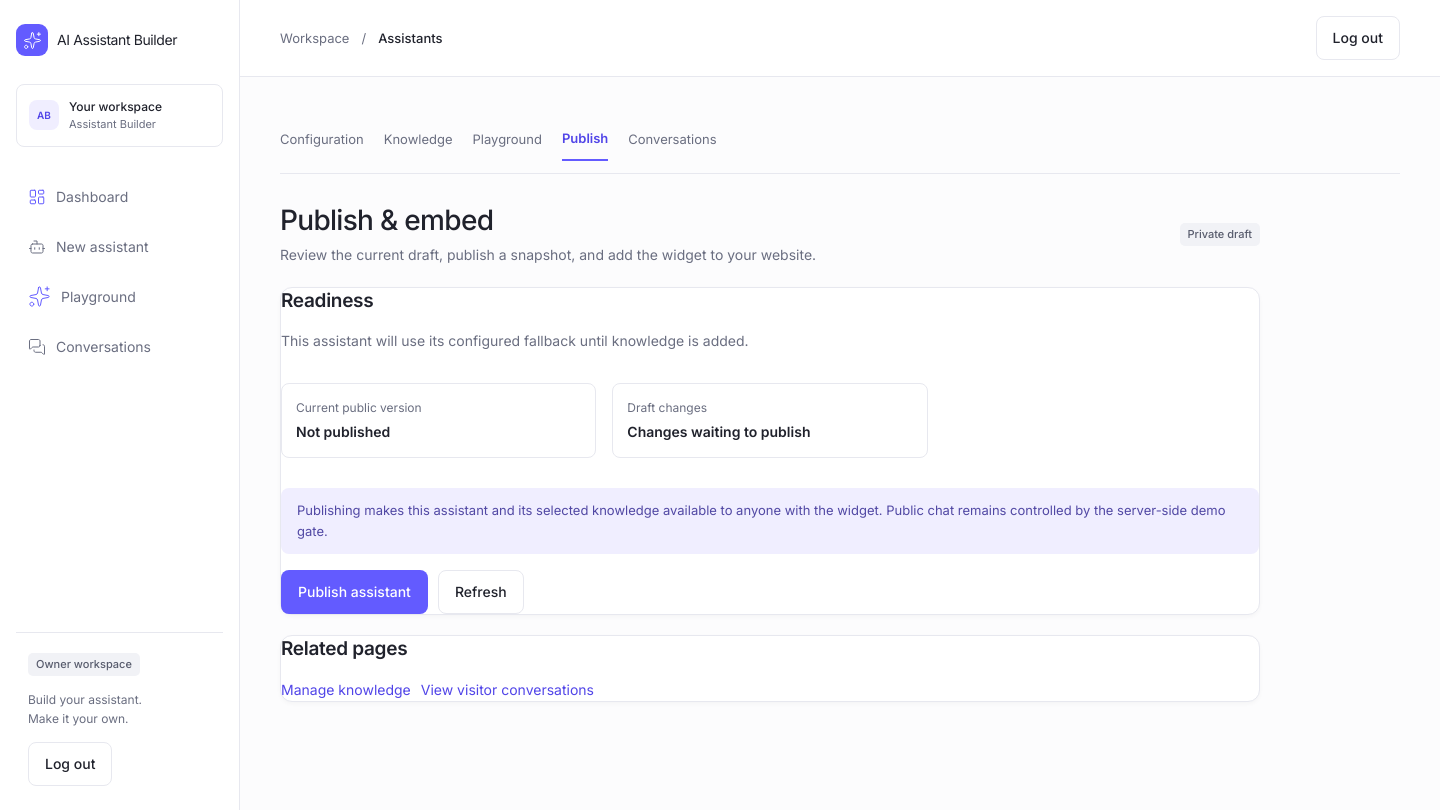
Test: P4-06 publishing UI › explains publish conflicts without exposing backend internals
What coordinates should you click on to do the following:
click the button "Publish assistant"
I would click on:
 (354, 592)
Its box is [281,570,428,614].
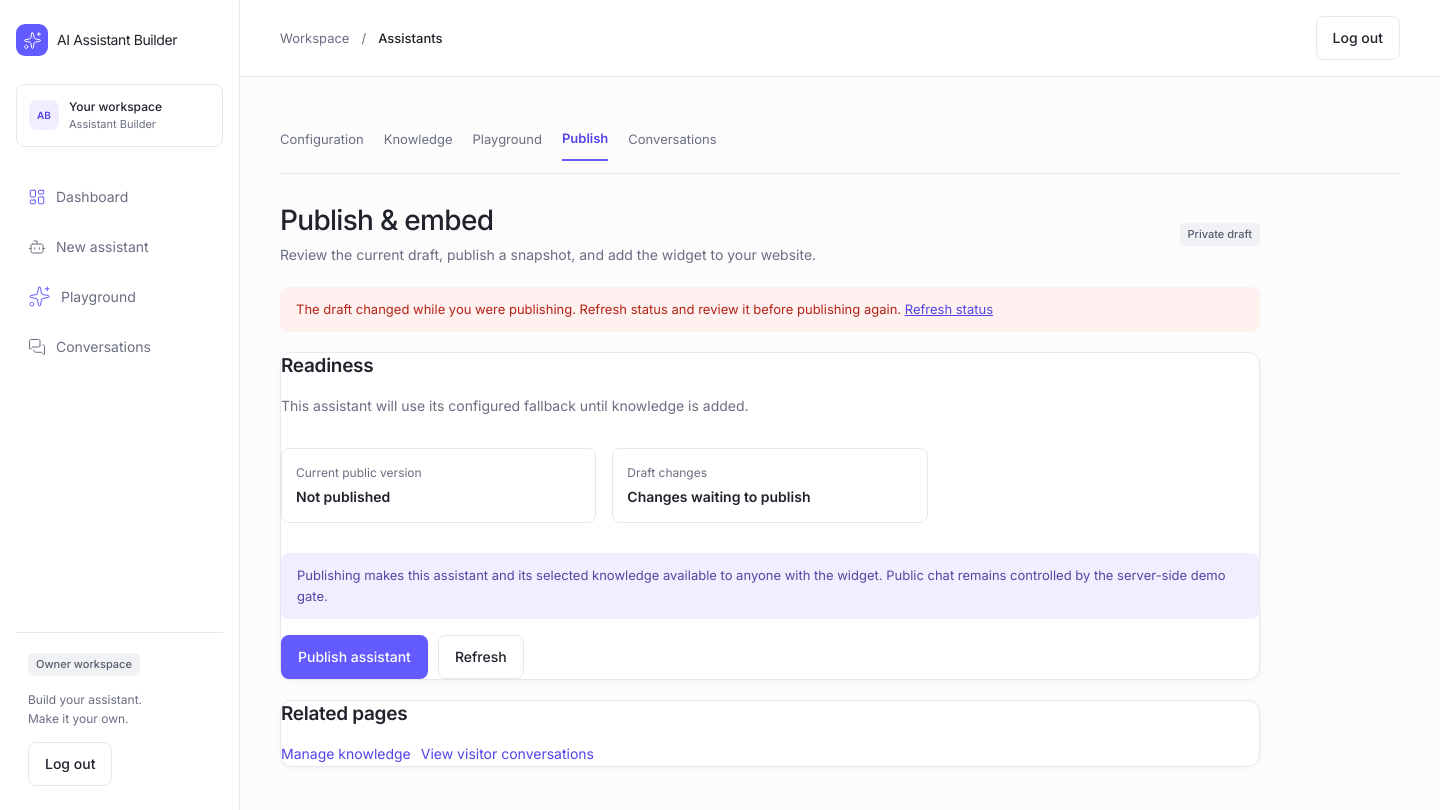
Expected: the 1st message does not show "database details", [280,287,1260,332]
Now the 1st message shows "draft changed", box [296,301,901,317]
